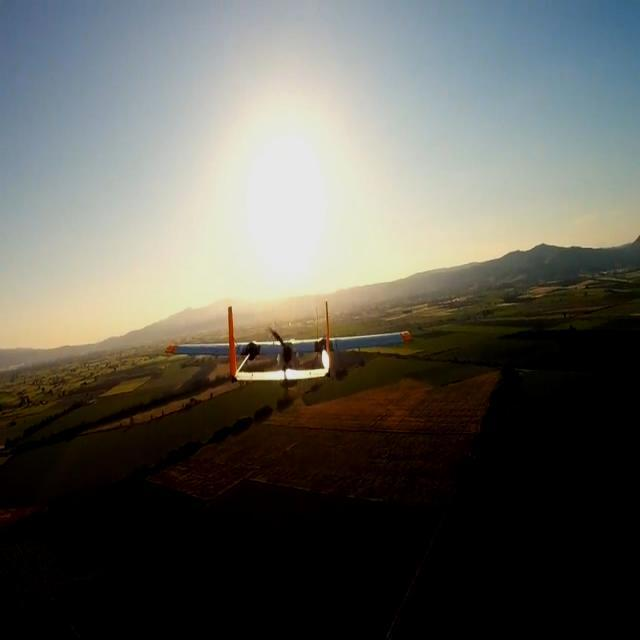iha: (163, 325, 414, 359)
